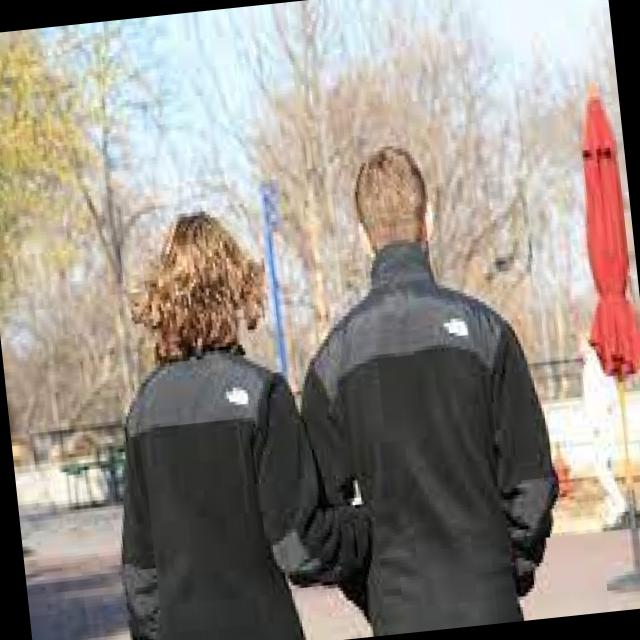Jacket: (314, 233, 606, 638), (110, 339, 338, 640)
